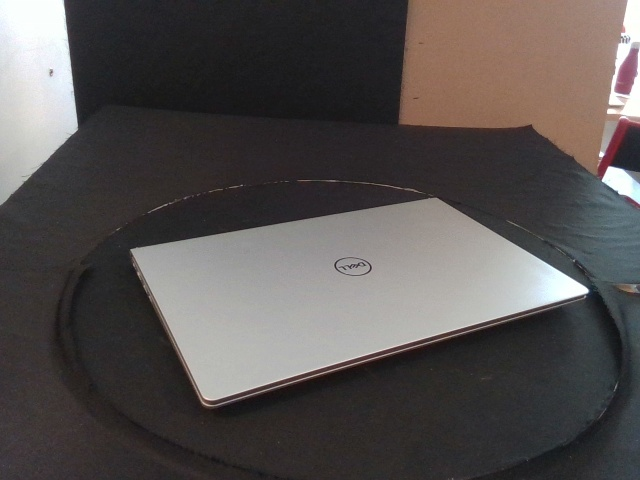laptop: (128, 196, 590, 409)
